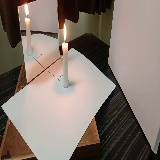fire: (63, 21, 68, 44)
